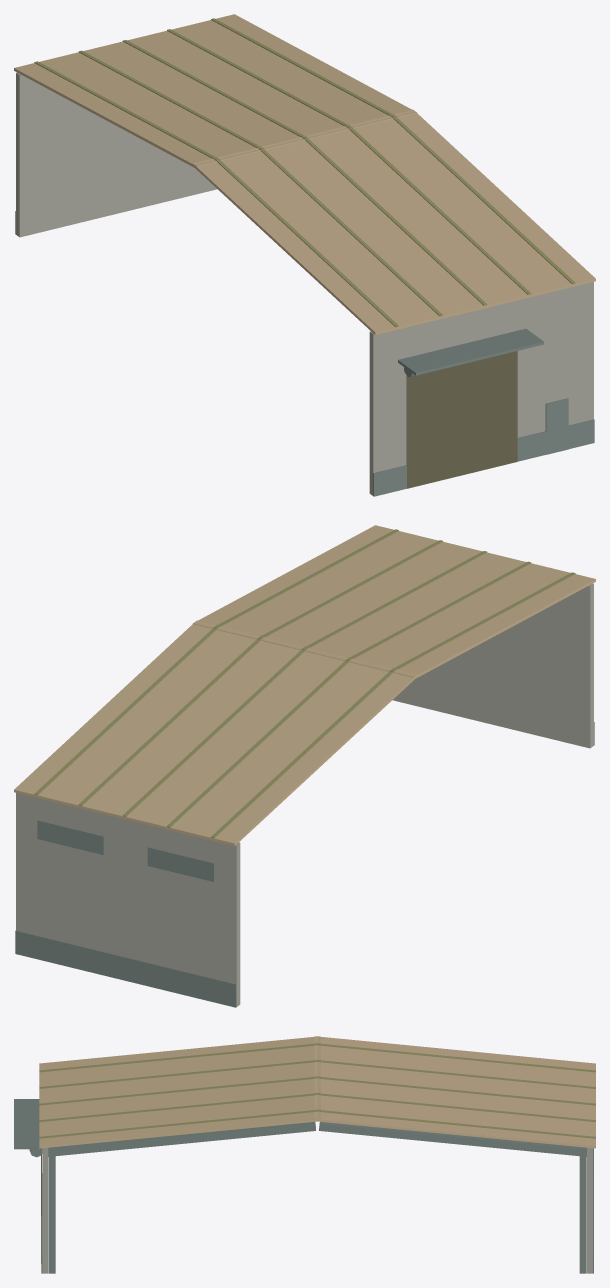
Rendered from SM_NavePoligono_Modulo_e1_PersianaAbierta_LOD0.fbx.
3 renders of one model, top to bottom at view 1: azimuth 30°, elevation 25°; view 2: azimuth 150°, elevation 25°; view 3: azimuth 270°, elevation 25°, orthographic. The views are drawn at different scales.
Visible parts, largest first — view 1: SM_nave_poligono_v1_LOD0; view 2: SM_nave_poligono_v1_LOD0; view 3: SM_nave_poligono_v1_LOD0.
Part boxes in pixels (x1=…): SM_nave_poligono_v1_LOD0: x1=14, y1=14, x2=595, y2=496; SM_nave_poligono_v1_LOD0: x1=14, y1=525, x2=595, y2=1007; SM_nave_poligono_v1_LOD0: x1=14, y1=1036, x2=595, y2=1273.
Bounding box in the file's own units: 9.98 × 8.72 × 29.6.
